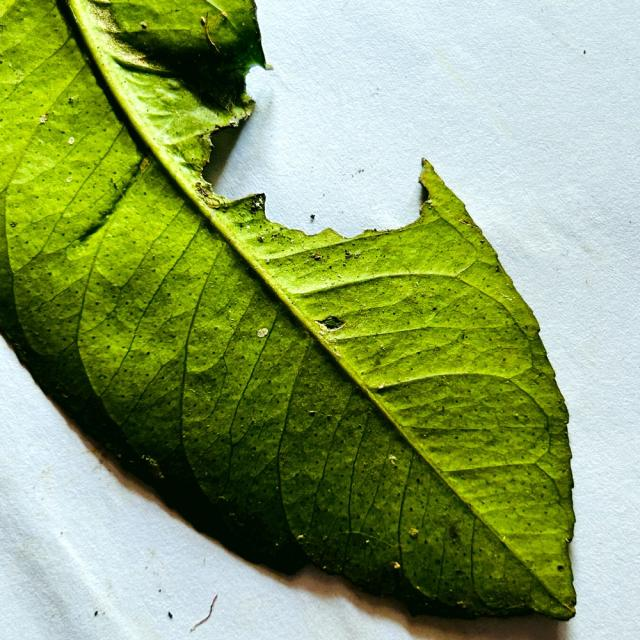Deficiency Leaf: (204, 43, 436, 237)
Lemon: (0, 0, 575, 620)
